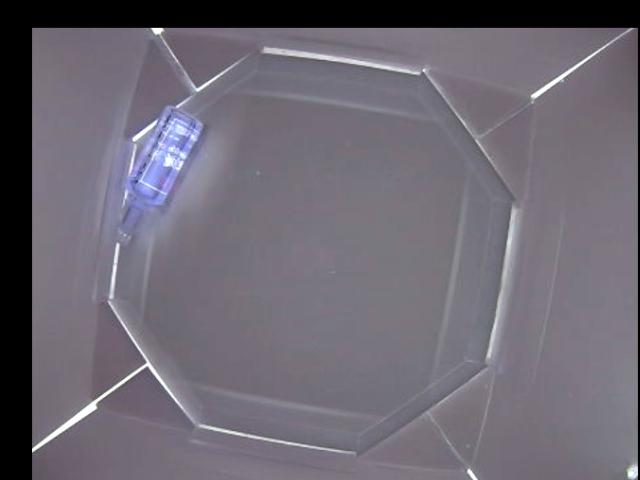Bottle: (115, 107, 204, 244)
